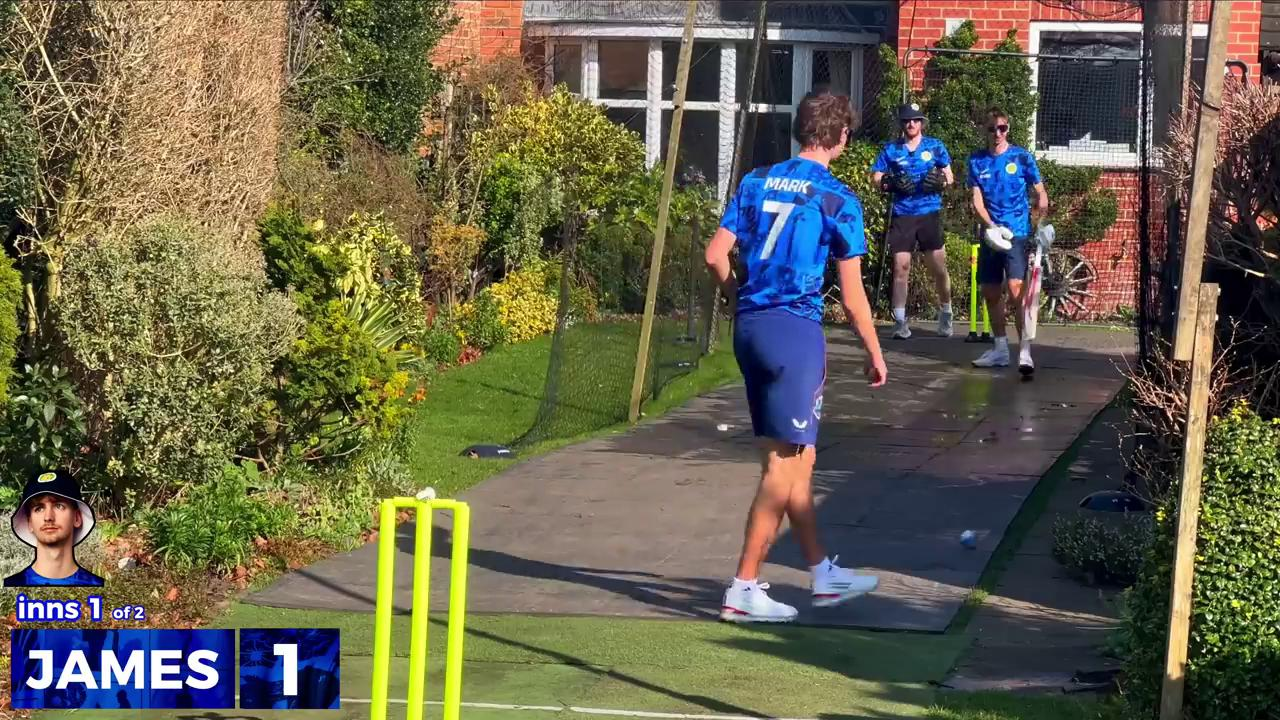ball: (954, 520, 984, 552)
